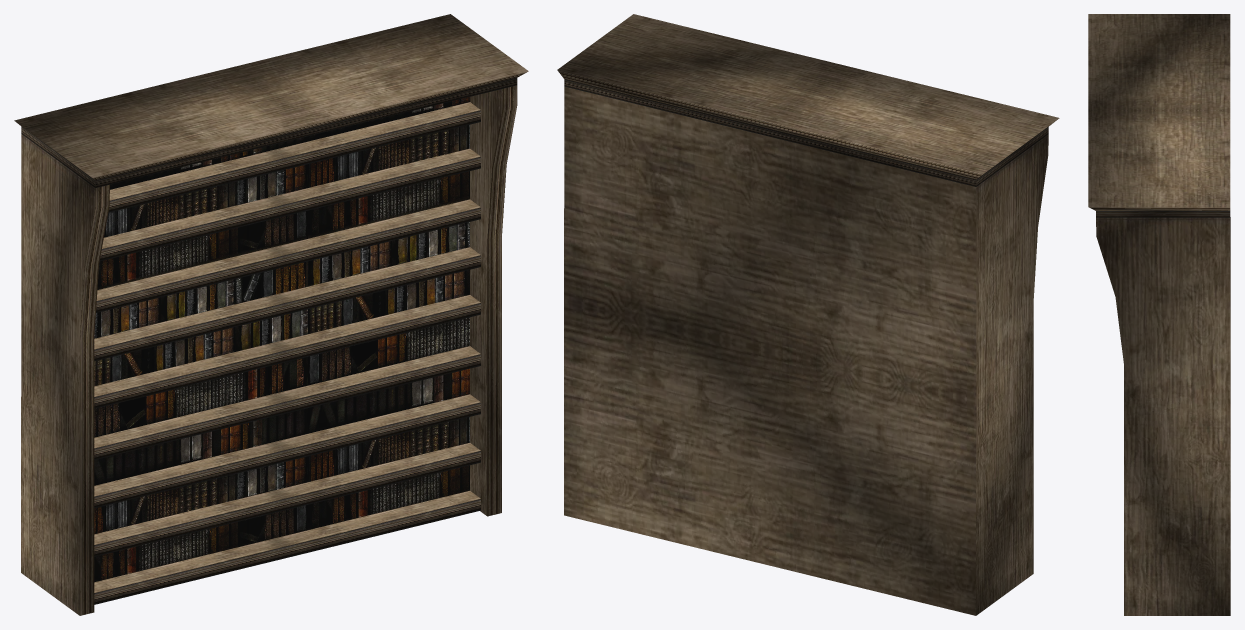
The model's file is GS_CITY_BOOKSHELF_YELLOW_01_KOZA.glb.
3 renders of one model, left to right at view 1: azimuth 30°, elevation 25°; view 2: azimuth 150°, elevation 25°; view 3: azimuth 270°, elevation 25°, orthographic. The views are drawn at different scales.
Visible parts, largest first — view 1: Mesh; view 2: Mesh; view 3: Mesh.
Boxes of the visible parts, box(x1,y1,x2,y2) form: Mesh: box(14, 14, 528, 615); Mesh: box(557, 14, 1059, 615); Mesh: box(1088, 14, 1230, 615).
Bounding box in the file's own units: 3 × 2.98 × 0.9349.
Materials: 4 (4 with a texture image).
